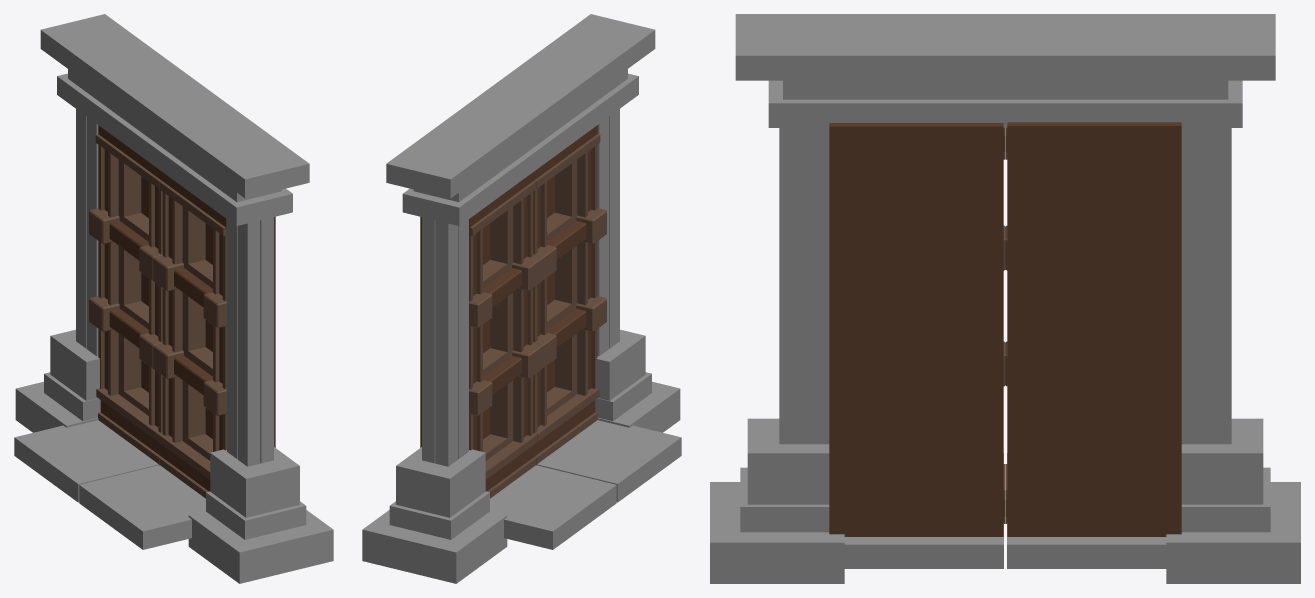
Rendered from Dungeon_Lockedgate 1.fbx.
The picture shows the model from 3 angles, left to right: view 1: azimuth 30°, elevation 25°; view 2: azimuth 150°, elevation 25°; view 3: azimuth 270°, elevation 25°; orthographic projection. The views are drawn at different scales.
Parts seen in each view (by area): view 1: Cube.117, L Door.021, R Door.010; view 2: Cube.117, R Door.010, L Door.021; view 3: Cube.117, R Door.010, L Door.021.
Boxes of the visible parts, x1=… form: Cube.117: x1=14, y1=14, x2=333, y2=583; L Door.021: x1=153, y1=172, x2=275, y2=498; R Door.010: x1=89, y1=125, x2=162, y2=465; Cube.117: x1=362, y1=14, x2=681, y2=583; R Door.010: x1=420, y1=172, x2=542, y2=498; L Door.021: x1=533, y1=125, x2=606, y2=465; Cube.117: x1=710, y1=14, x2=1300, y2=583; R Door.010: x1=1005, y1=122, x2=1181, y2=536; L Door.021: x1=829, y1=123, x2=1005, y2=536.
Size of the model in its own units: 1371 by 3609 by 3722.
